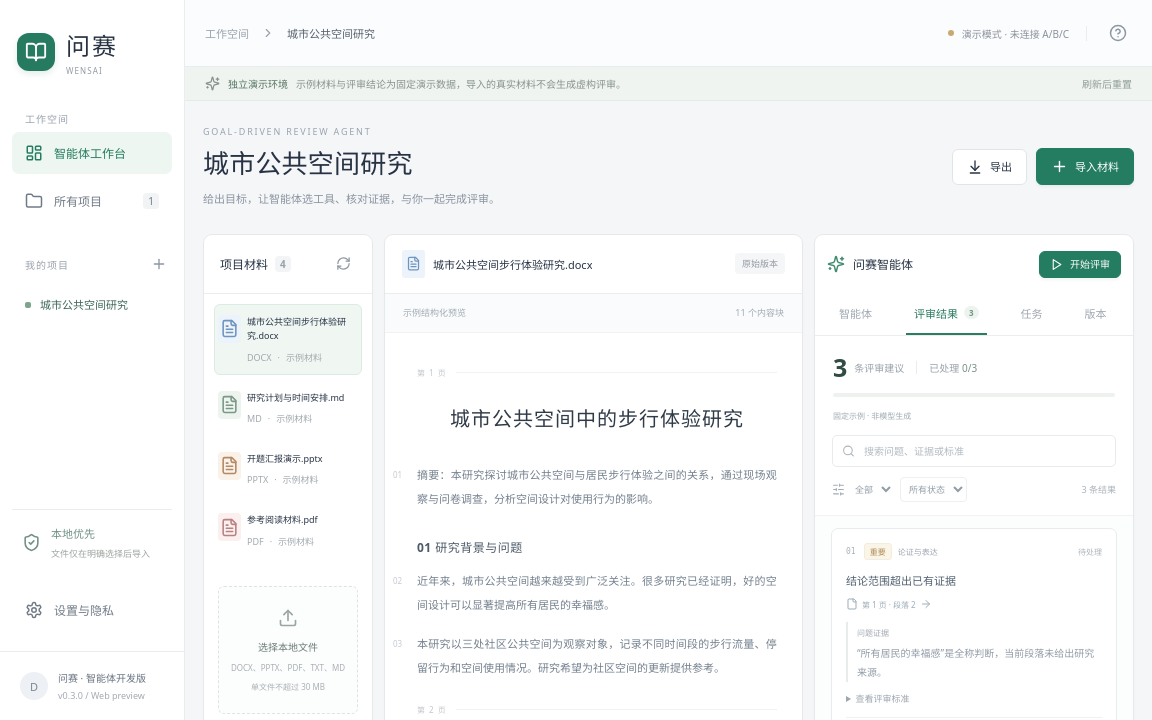
Test case: interactive workspace › accepts, rejects and manually edits a suggestion, then locates its block
This screenshot has width=1152, height=720.
Click the button "结论范围超出已有证据" at (901, 581), box [846, 572, 956, 590]
(page scrolled)
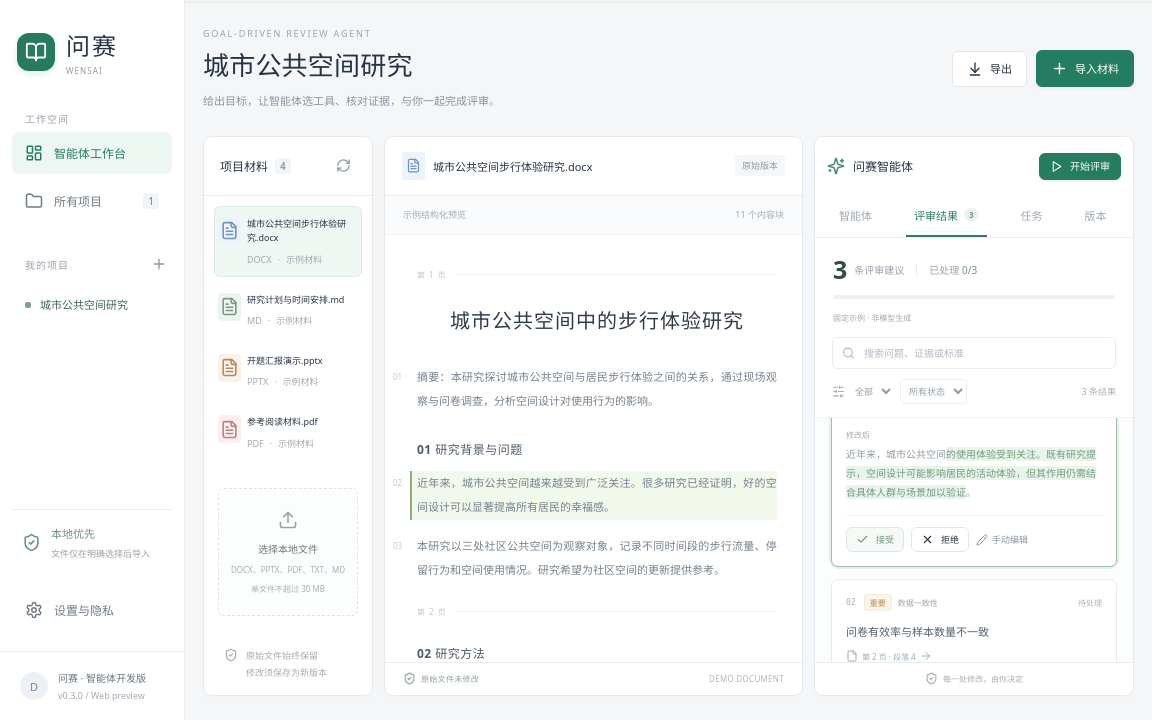
Check: the element with id "block-b4" has class "highlight", box [410, 471, 777, 520]
Click the button "接受" at (875, 540), box [846, 528, 904, 552]
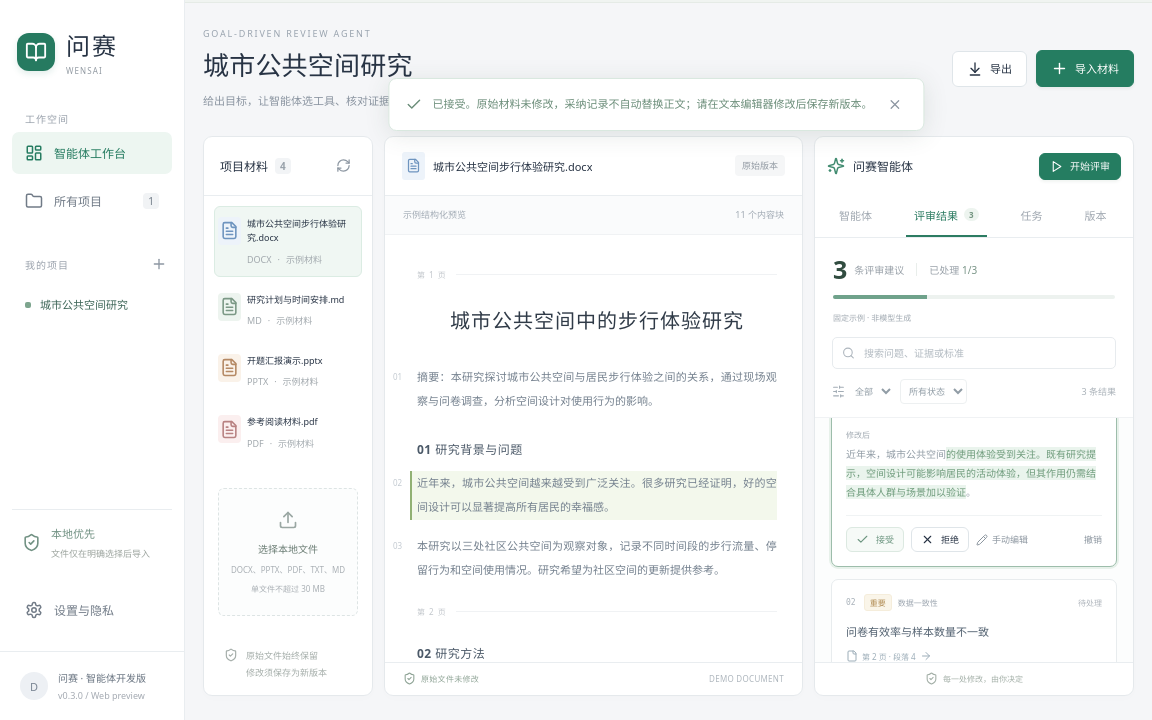
Click the button "拒绝" at (940, 540), box [911, 528, 969, 552]
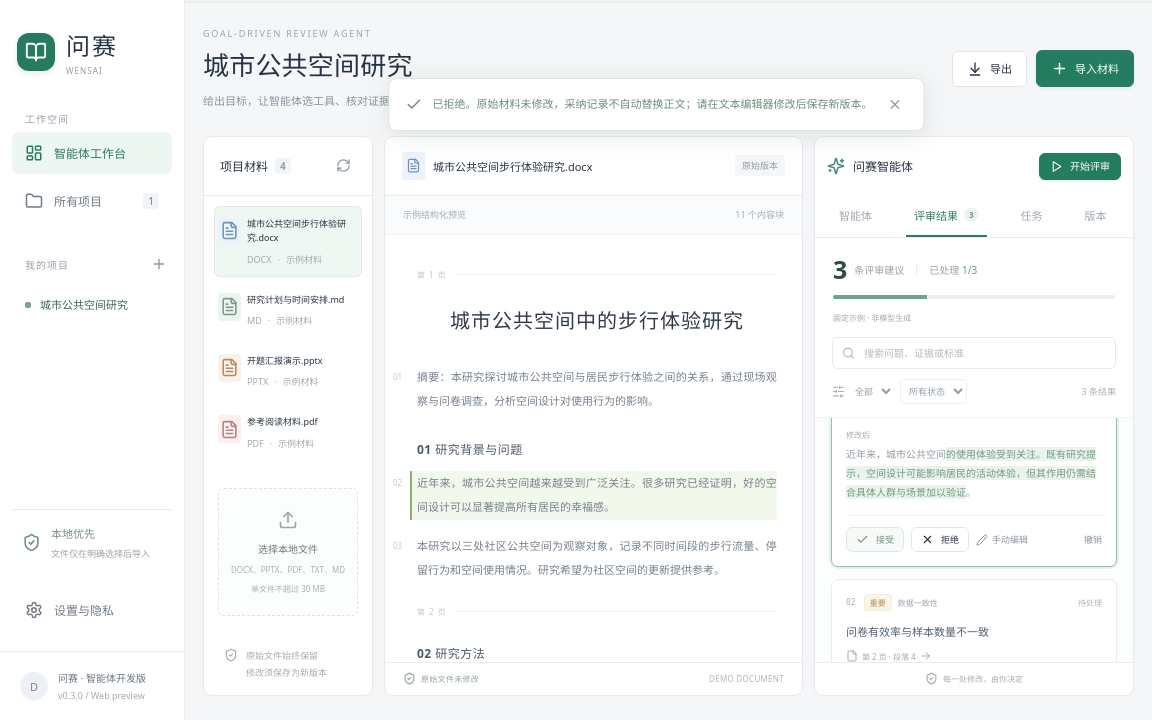
Click the button "手动编辑" at (1002, 540), box [976, 530, 1028, 550]
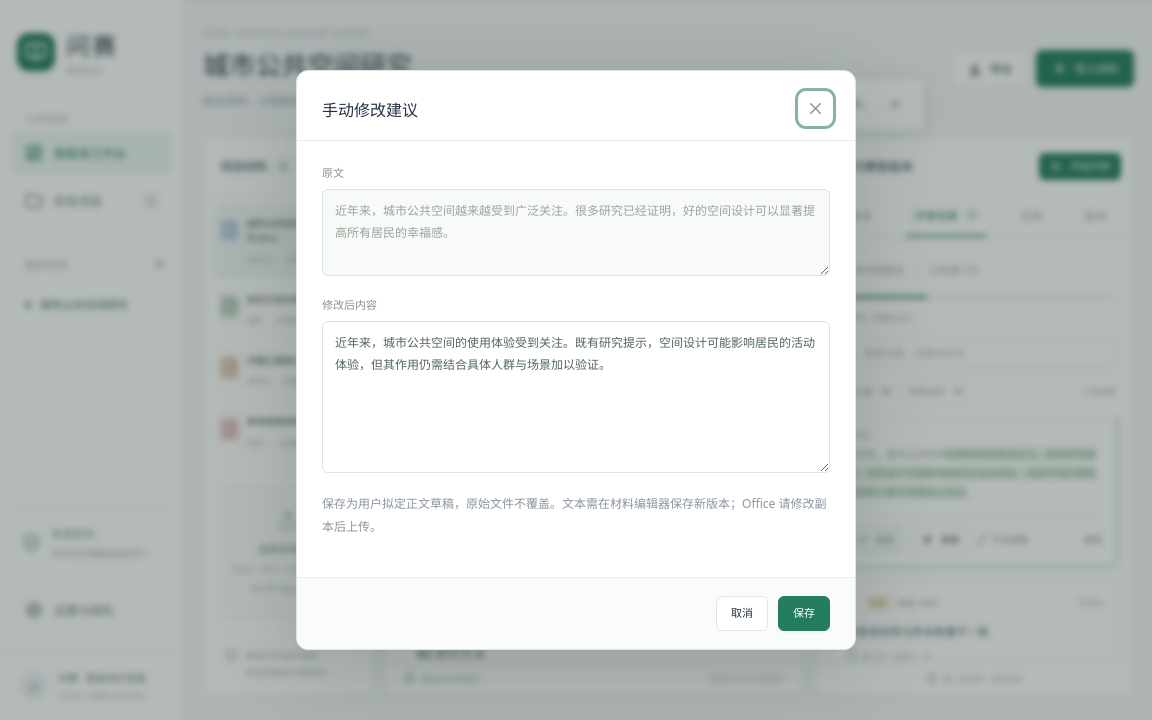
Replace the text in the text box labelled "修改后内容" with "人工修改的论证范围" at (576, 397), box [322, 321, 830, 473]
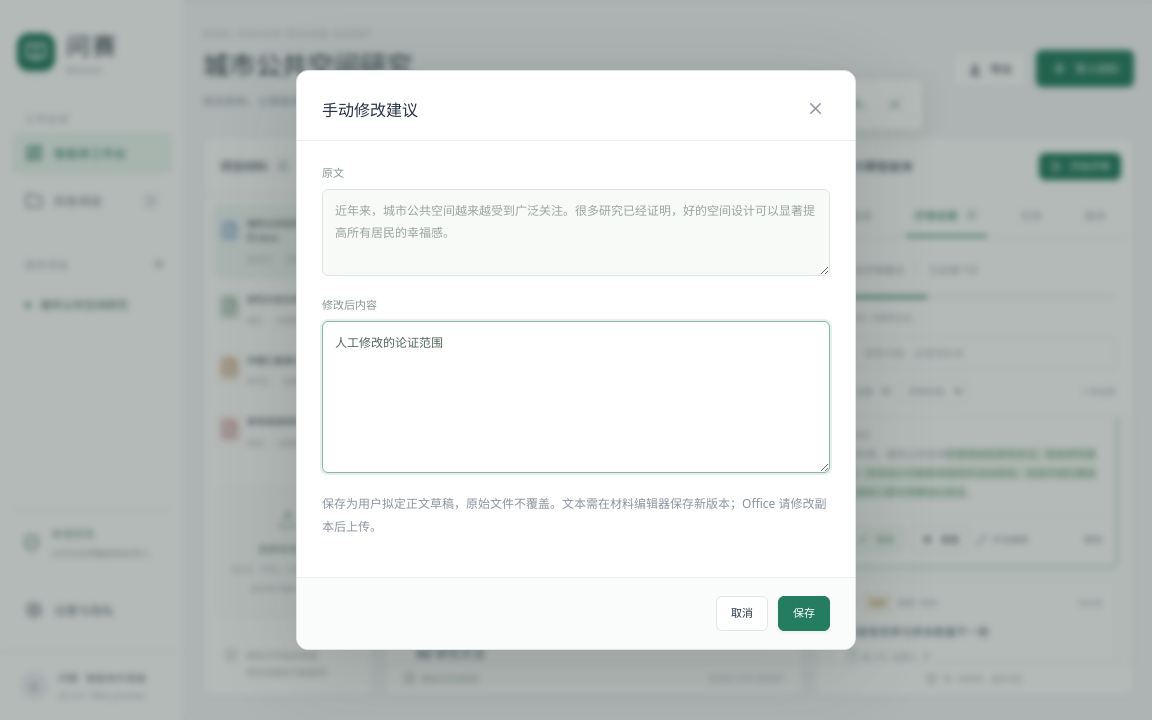
Click the button "保存" at (804, 613), box [778, 596, 830, 631]
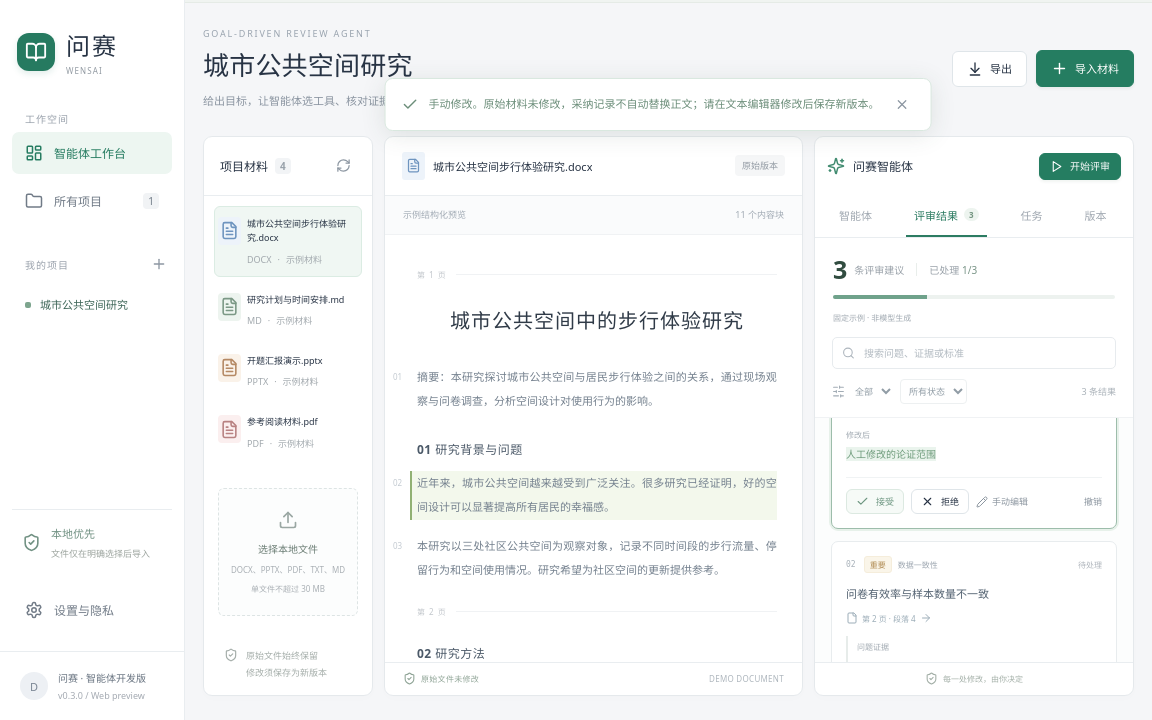
Check: the text "人工修改的论证范围" is shown, box [846, 448, 936, 462]
